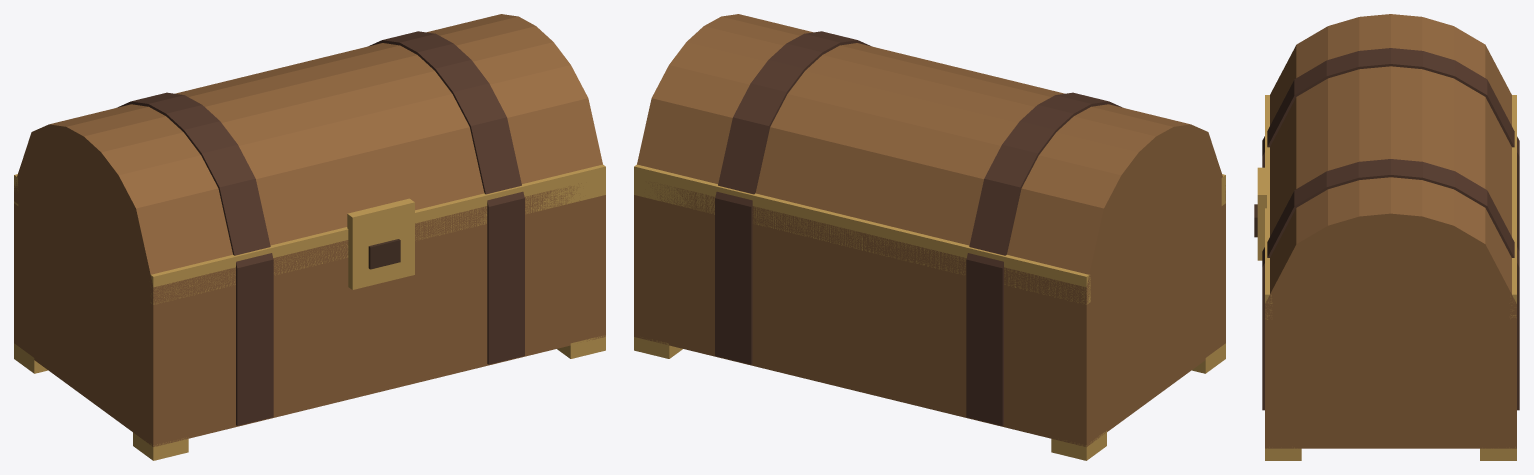
File: FN_Trunk_Storage.obj
The picture shows the model from 3 angles, left to right: view 1: azimuth 30°, elevation 25°; view 2: azimuth 150°, elevation 25°; view 3: azimuth 270°, elevation 25°; orthographic projection. The views are drawn at different scales.
Visible parts, largest first — view 1: FN_Trunk_Storage; view 2: FN_Trunk_Storage; view 3: FN_Trunk_Storage.
Part boxes in pixels (left/top/right/bottom): FN_Trunk_Storage: left=14, top=14, right=605, bottom=460; FN_Trunk_Storage: left=634, top=14, right=1225, bottom=460; FN_Trunk_Storage: left=1254, top=14, right=1519, bottom=460.
Size of the model in its own units: 0.9 by 0.525 by 0.505.
Materials: 1 (1 with a texture image).
